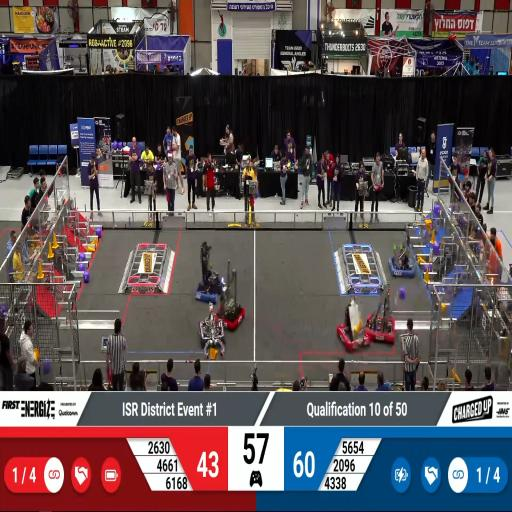robot: (194, 253, 222, 306), (217, 282, 246, 333), (367, 301, 396, 349), (199, 312, 228, 351), (337, 317, 370, 351), (388, 243, 418, 278)
